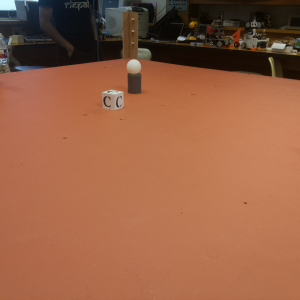blockC: (101, 88, 123, 109)
corner: (121, 12, 138, 56)
obstacle: (127, 59, 141, 94)
